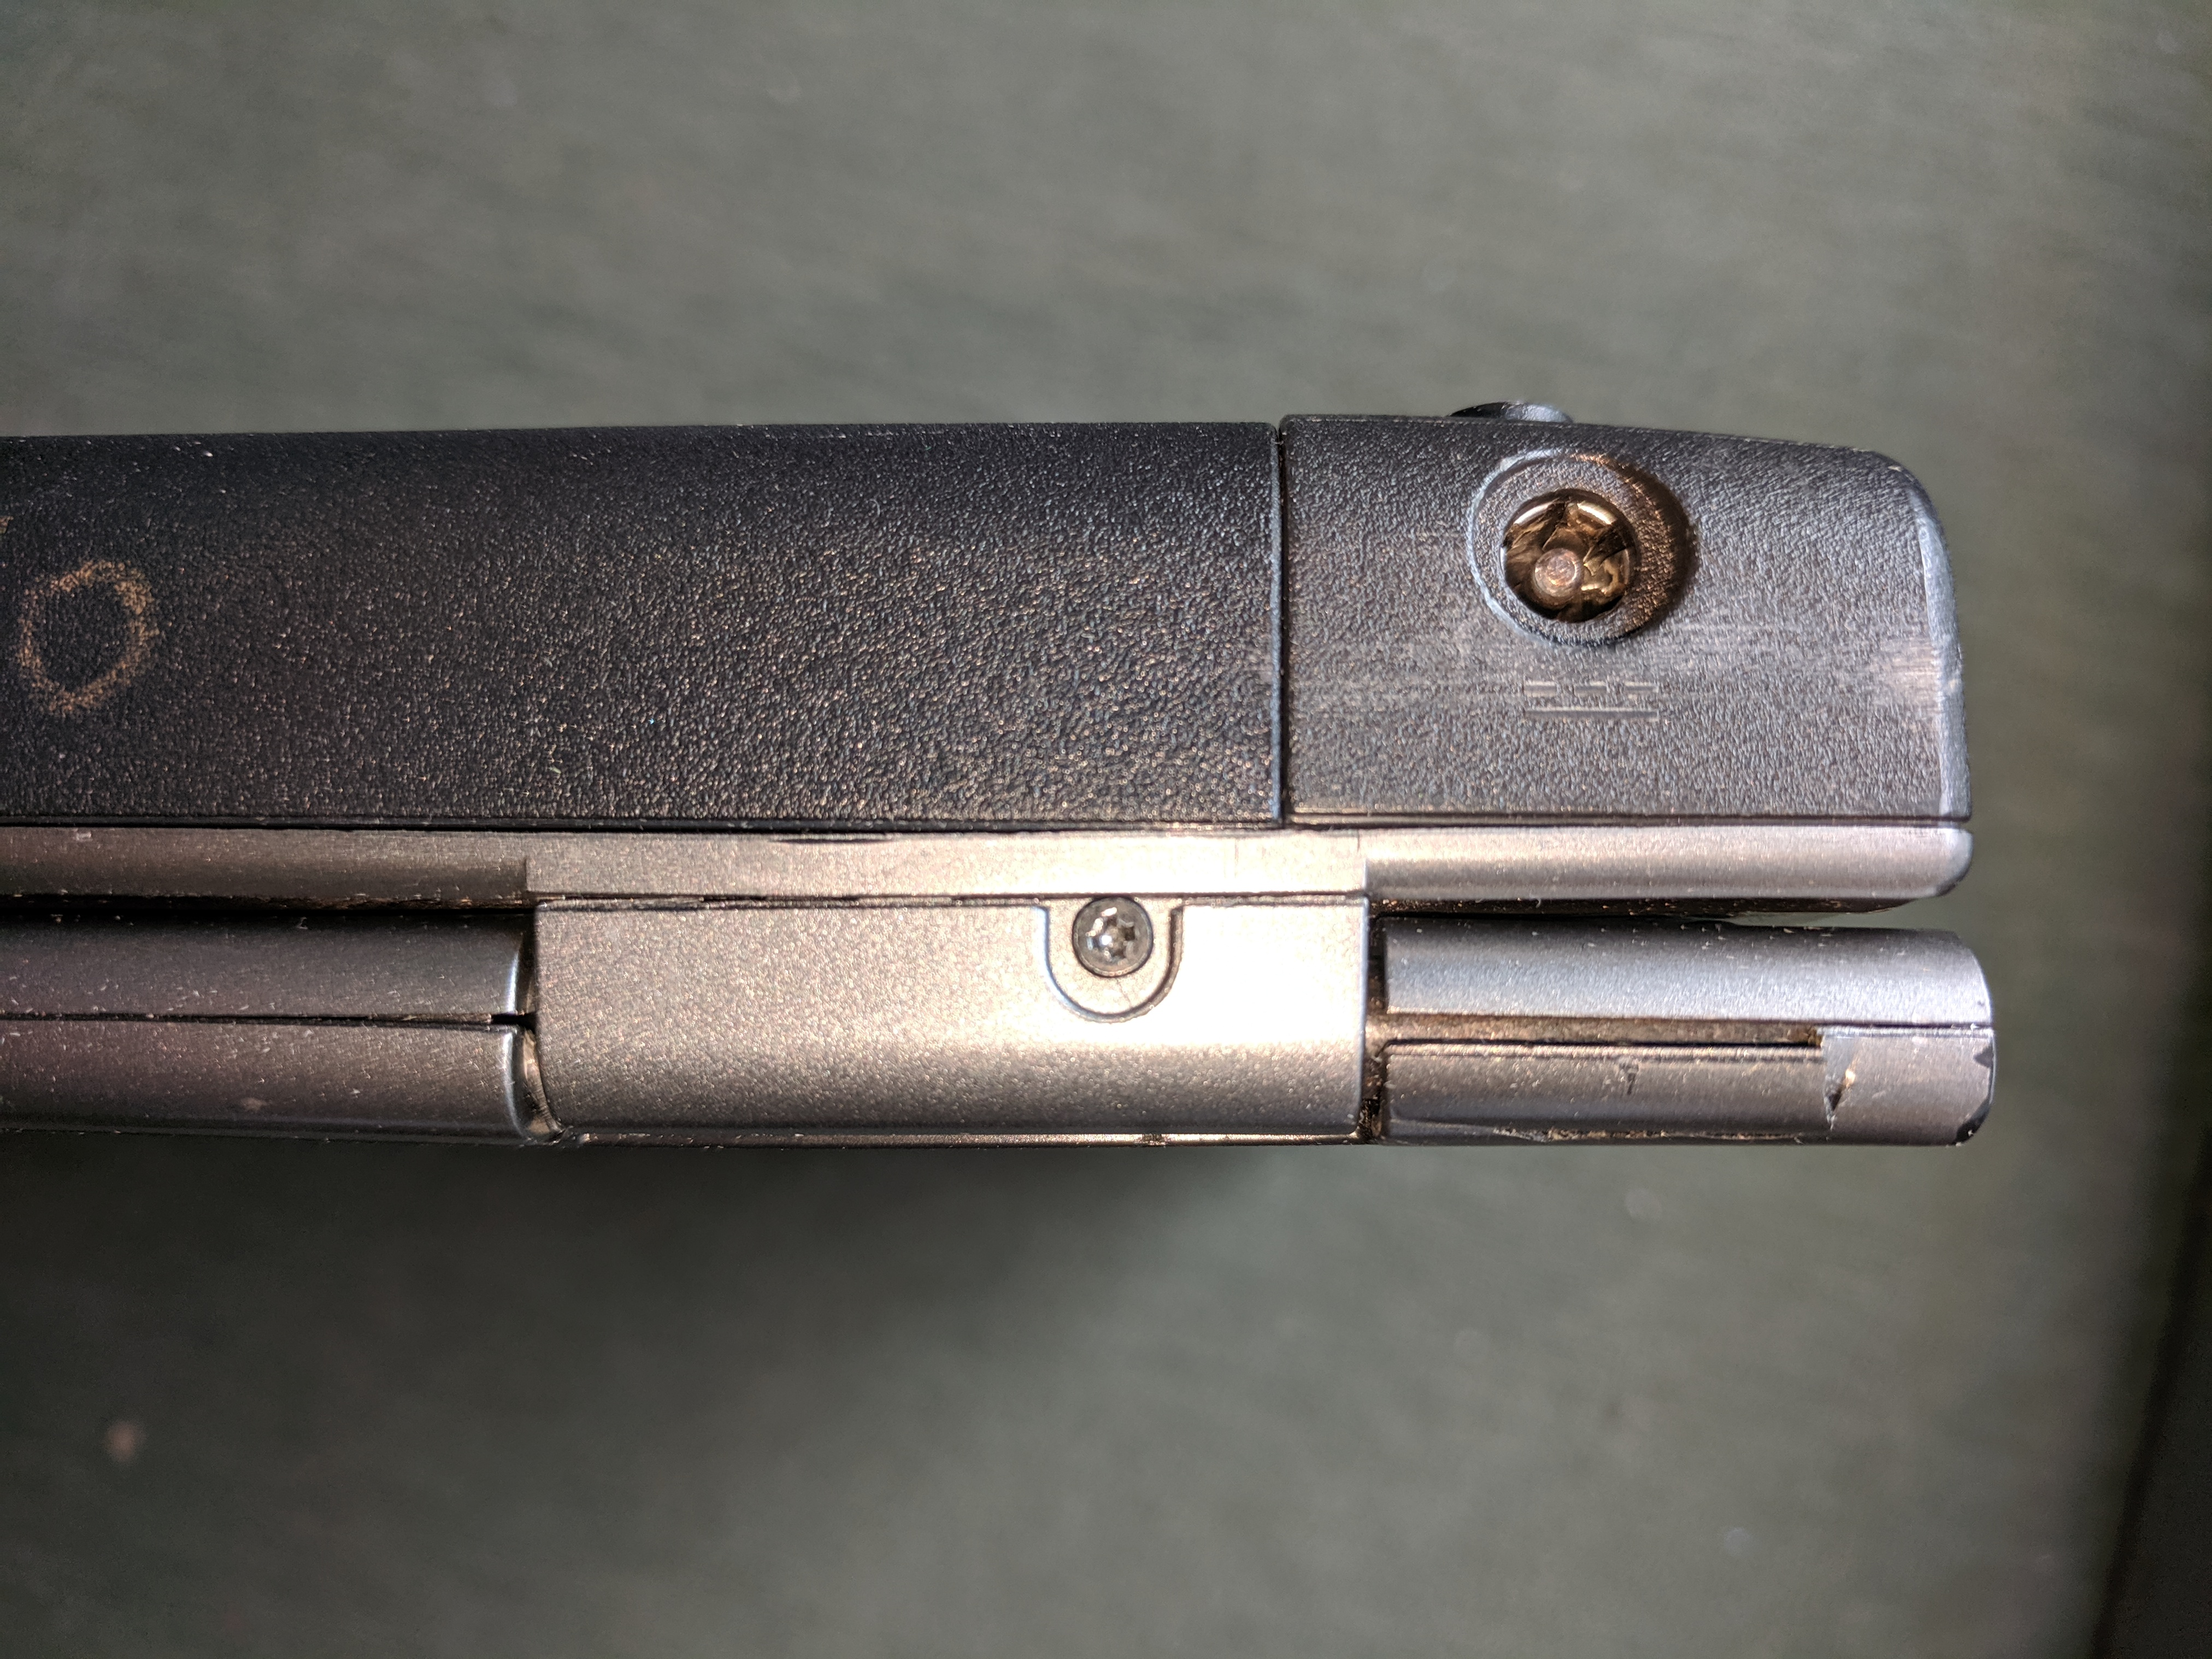cross_recessed_screw: (1062, 885, 1155, 981)
